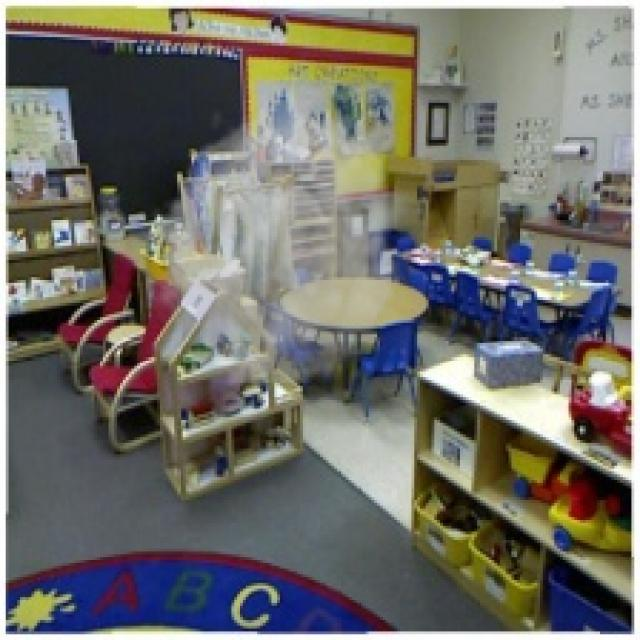smoke: (143, 100, 417, 383)
